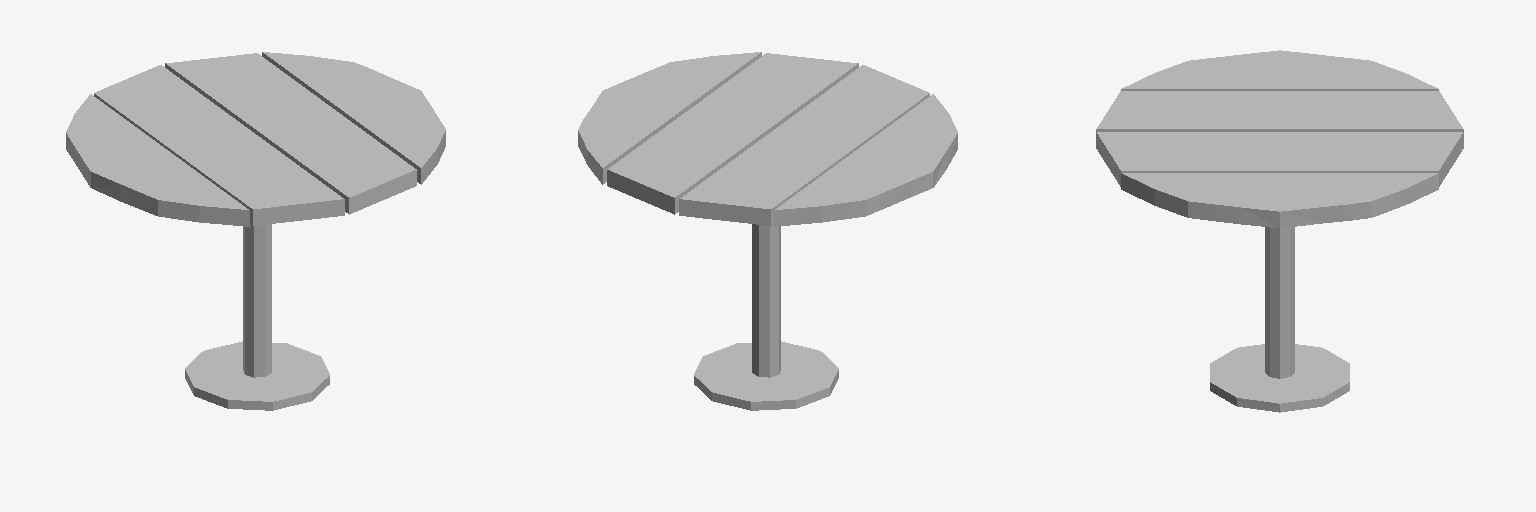
Rendered from Mesa Circular.obj.
The picture shows the model from 3 angles: view 1: azimuth 30°, elevation 25°; view 2: azimuth 150°, elevation 25°; view 3: azimuth 270°, elevation 25°; orthographic projection.
Visible parts, largest first — view 1: Mesa_Circular; view 2: Mesa_Circular; view 3: Mesa_Circular.
Boxes of the visible parts, box(x1,y1,x2,y2) form: Mesa_Circular: box(66, 52, 445, 410); Mesa_Circular: box(578, 52, 957, 410); Mesa_Circular: box(1096, 50, 1463, 412).
Bounding box in the file's own units: 40.9 × 29.53 × 39.37.